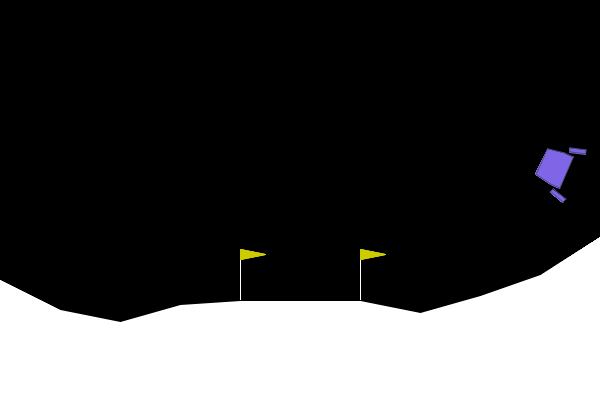lander: (527, 134, 588, 205)
